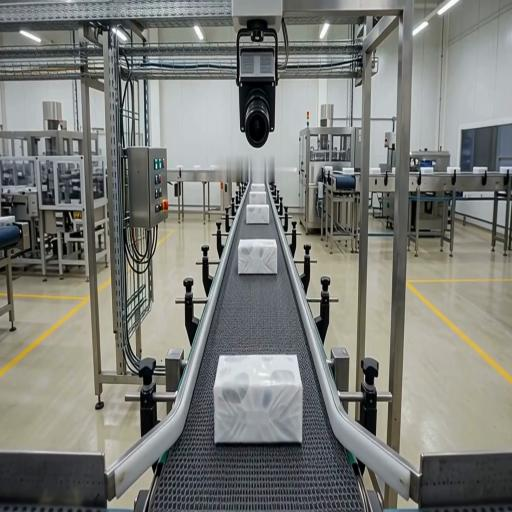good: (213, 354, 302, 444), (237, 238, 278, 276), (246, 204, 270, 224), (248, 191, 267, 205), (250, 183, 265, 191)
